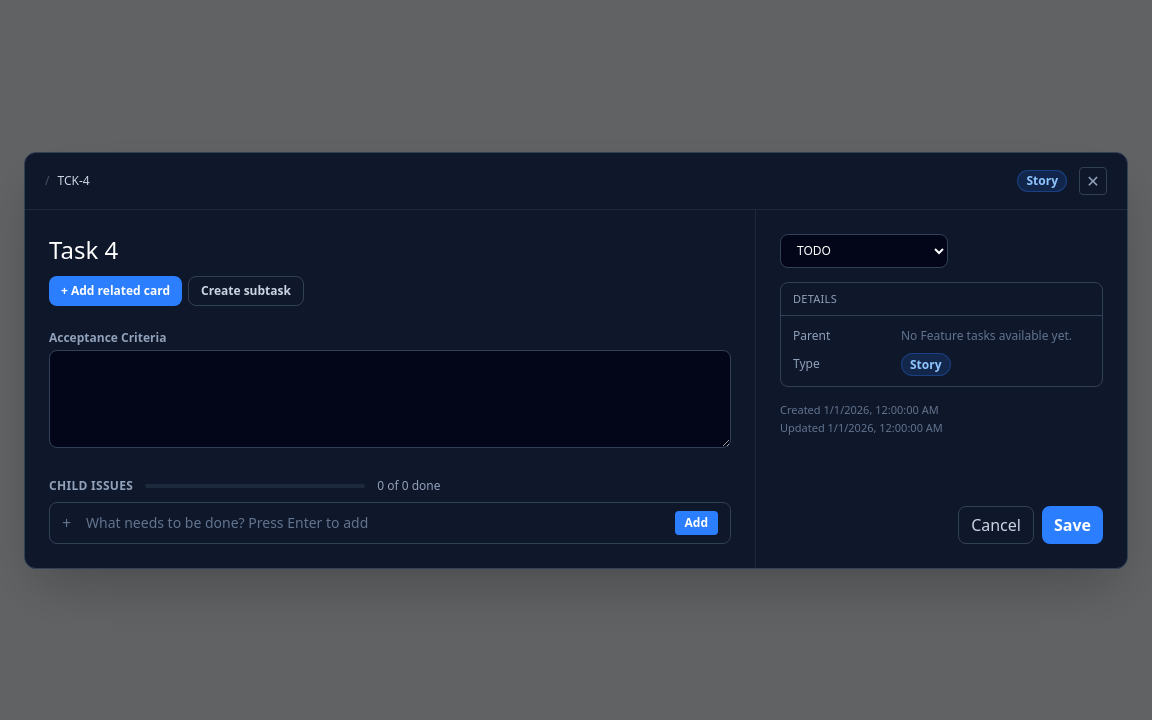
Test: TaskDetailsModal › opens CreateRelatedTaskModal (parent-only) when '+ Add related card' is clicked
What coordinates should you click on to do the following:
click the button "+ Add related card"
I would click on:
 (116, 290)
Its box is [49,276,182,306].
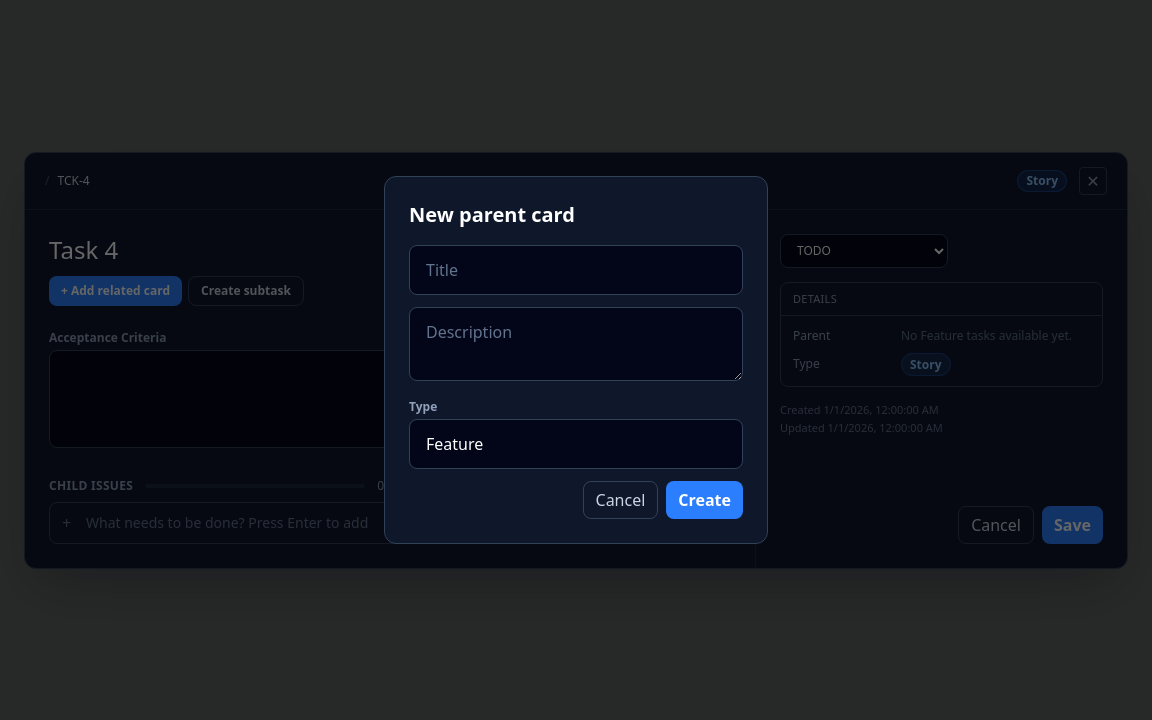
Expected: the heading "New parent card" is shown, [409,201,575,228]
